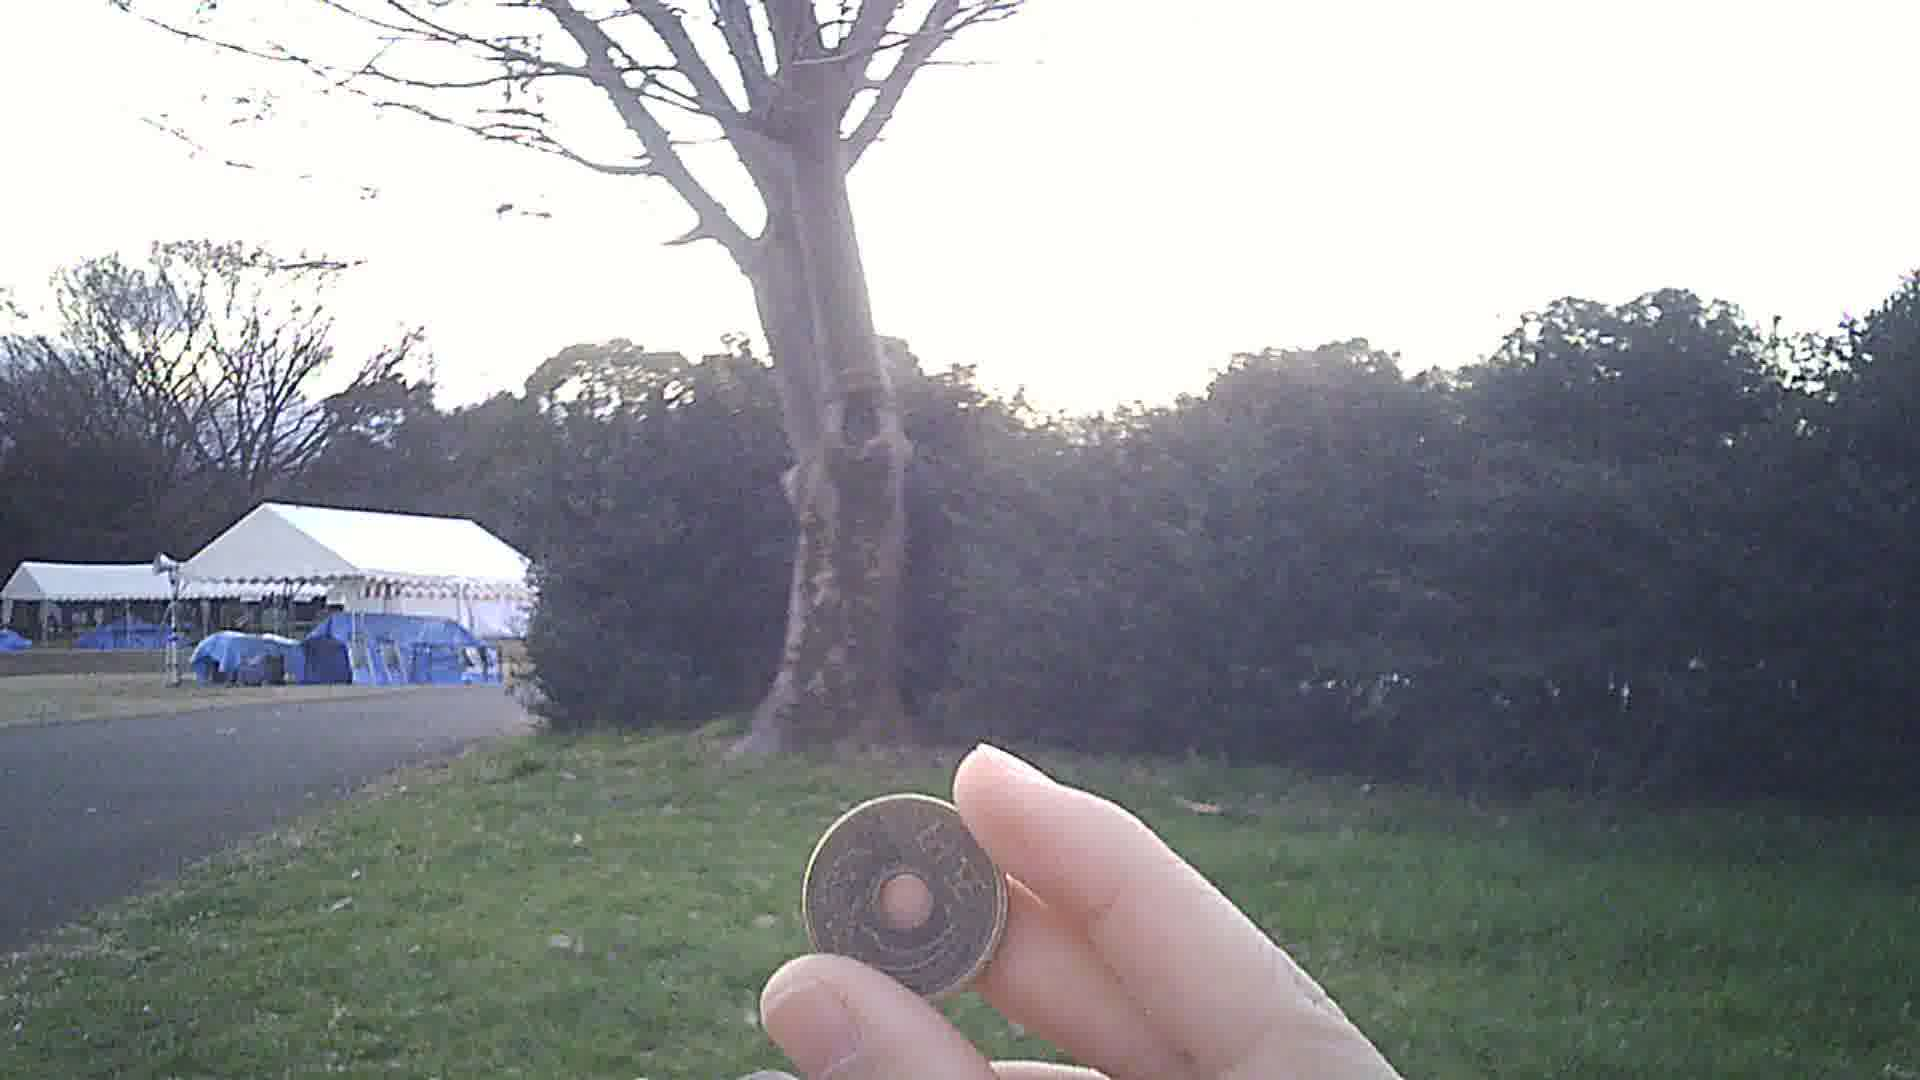5 Yen: (793, 786, 1011, 1009)
